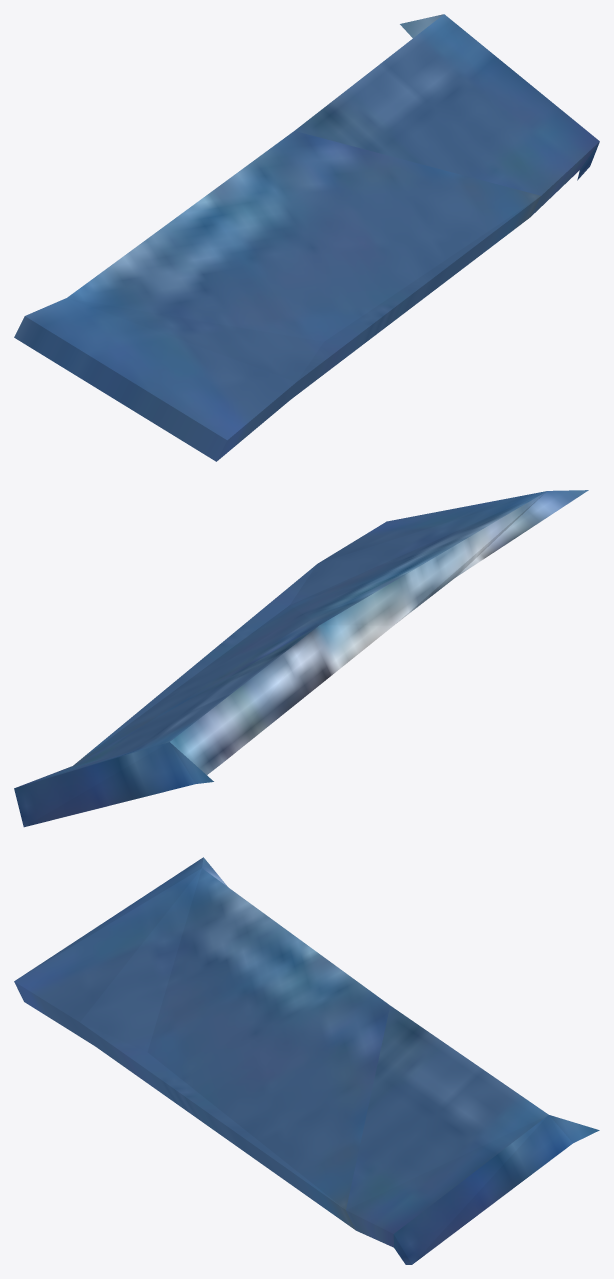
3 renders of one model, top to bottom at view 1: azimuth 30°, elevation 25°; view 2: azimuth 210°, elevation 25°; view 3: azimuth 270°, elevation 25°, orthographic. The views are drawn at different scales.
Size of the model in its own units: 24.72 by 4.41 by 19.14.
Materials: 1 (1 with a texture image).
